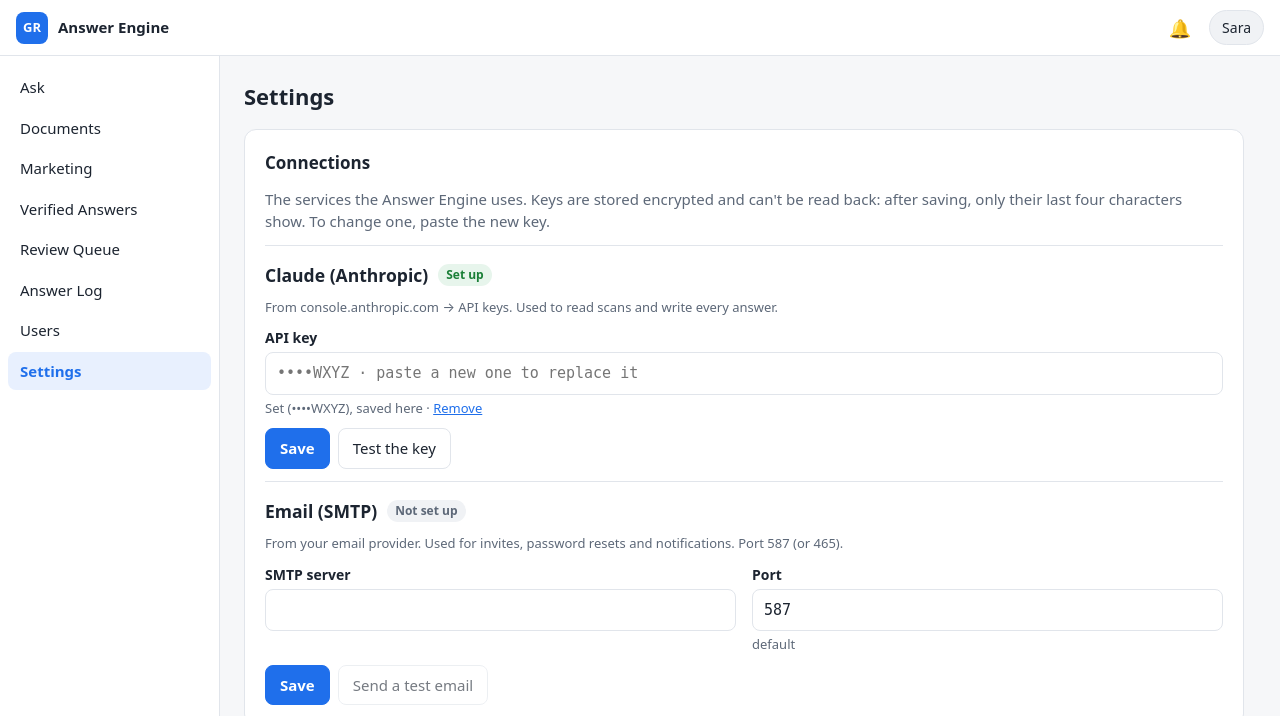
Scenario: saving with nothing typed says so
Click the button "Save" below "Set (••••WXYZ)," at (297, 449), box [265,428,330,469]
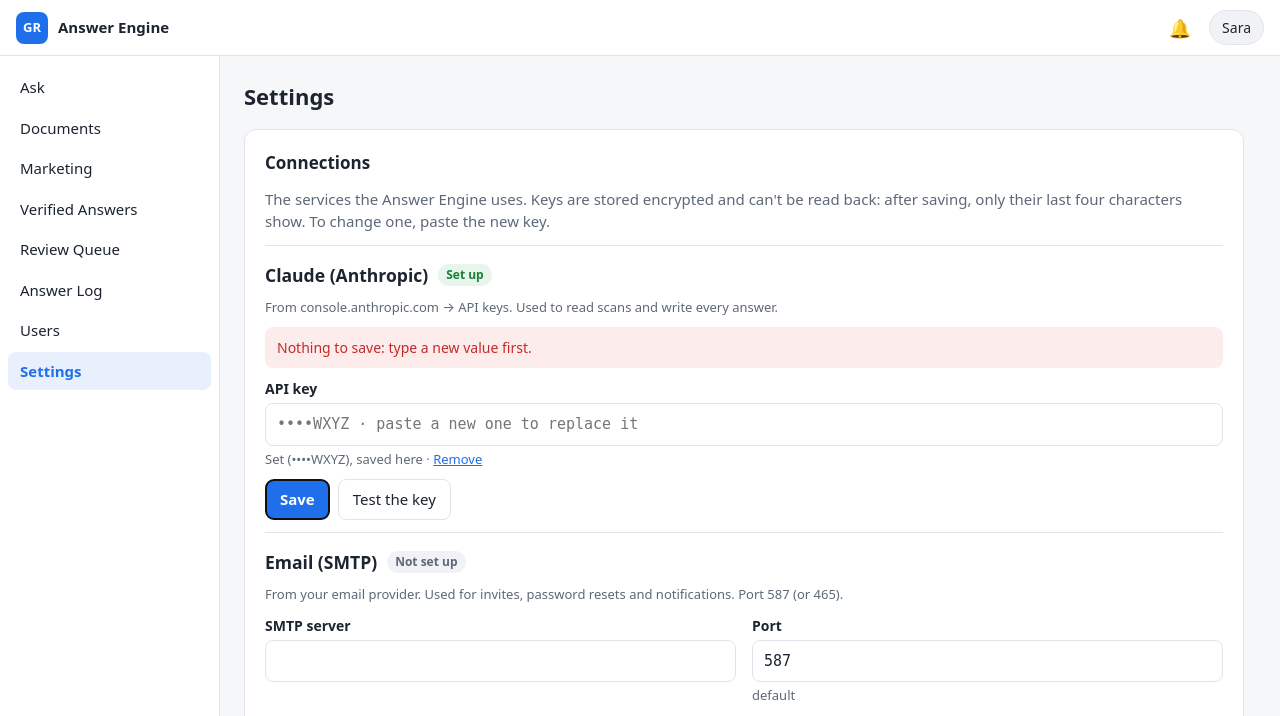
expect the text "Nothing to save: type a new value first." is shown: met, box [265,327,1223,368]
